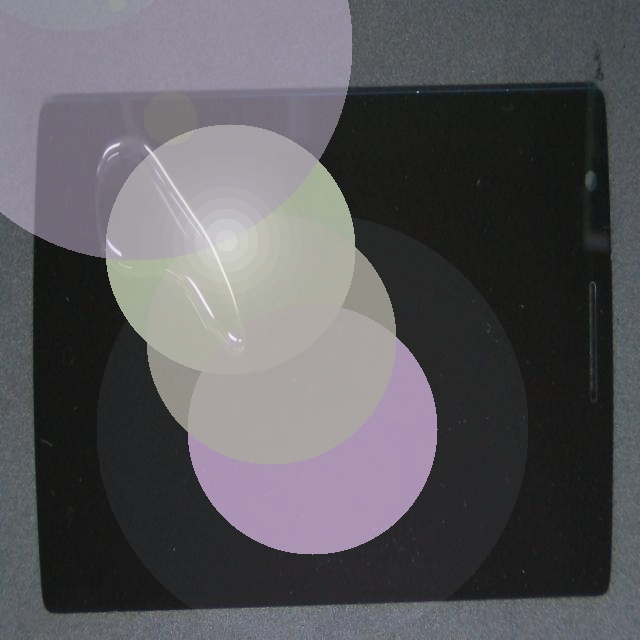oil: (76, 122, 317, 486)
